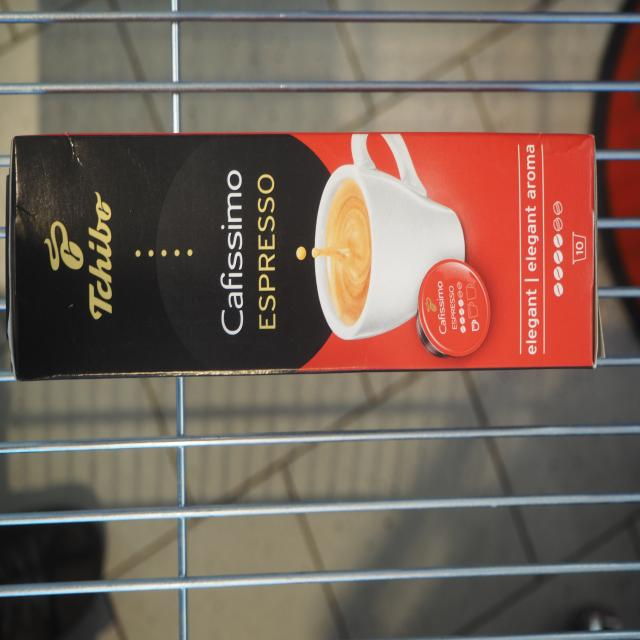Simo Es Elegant: (7, 130, 601, 385)
